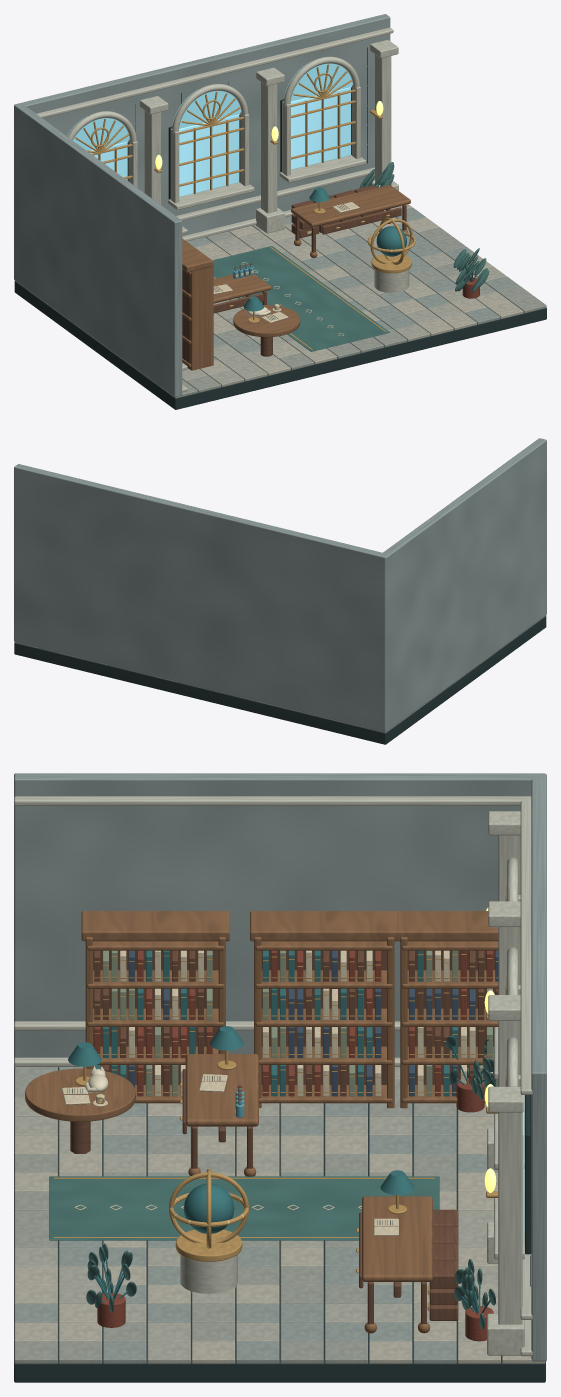
The model's file is hall.glb.
3 renders of one model, top to bottom at view 1: azimuth 30°, elevation 25°; view 2: azimuth 150°, elevation 25°; view 3: azimuth 270°, elevation 25°, orthographic. The views are drawn at different scales.
Parts seen in each view (by area): view 1: Static_5_Salt worn limestone, Static_6_Ivory carved stone, Static_7_Mist beyond windows, Static_16_Carpet, Static_10_Polished wood edge, Static_0_Ink, Static_3_Tile 00_04, Static_8_Aged brass, Static_4_Tile 01_10, Static_1_Tile 00_00, Static_2_Tile 00_01, Static_9_Walnut grain (+2 smaller); view 2: Static_5_Salt worn limestone, Static_0_Ink; view 3: Static_5_Salt worn limestone, Static_10_Polished wood edge, Static_6_Ivory carved stone, Static_4_Tile 01_10, Static_2_Tile 00_01, Static_16_Carpet, Static_1_Tile 00_00, Static_9_Walnut grain, Static_3_Tile 00_04, Static_0_Ink, Static_11_Enamel teal, Static_8_Aged brass (+4 smaller).
Part boxes in pixels (x1,y1,x2,y2): Static_5_Salt worn limestone: [14, 14, 390, 397]; Static_6_Ivory carved stone: [36, 27, 409, 392]; Static_7_Mist beyond windows: [67, 62, 352, 196]; Static_16_Carpet: [213, 162, 489, 351]; Static_10_Polished wood edge: [182, 185, 410, 370]; Static_0_Ink: [14, 47, 546, 409]; Static_3_Tile 00_04: [28, 210, 505, 386]; Static_8_Aged brass: [75, 64, 415, 349]; Static_4_Tile 01_10: [195, 204, 523, 375]; Static_1_Tile 00_00: [14, 224, 546, 398]; Static_2_Tile 00_01: [122, 207, 519, 388]; Static_9_Walnut grain: [182, 185, 406, 369]; Static_5_Salt worn limestone: [14, 438, 546, 731]; Static_0_Ink: [14, 616, 546, 744]; Static_5_Salt worn limestone: [14, 773, 546, 1361]; Static_10_Polished wood edge: [25, 911, 498, 1333]; Static_6_Ivory carved stone: [14, 796, 532, 1356]; Static_4_Tile 01_10: [14, 1103, 545, 1363]; Static_2_Tile 00_01: [14, 1067, 498, 1363]; Static_16_Carpet: [49, 1035, 495, 1329]; Static_1_Tile 00_00: [14, 1066, 456, 1363]; Static_9_Walnut grain: [64, 950, 498, 1334]; Static_3_Tile 00_04: [14, 1067, 498, 1363]; Static_0_Ink: [14, 1067, 545, 1382]; Static_11_Enamel teal: [68, 950, 490, 1313]; Static_8_Aged brass: [54, 887, 506, 1310].
Size of the model in its own units: 16.02 by 7.73 by 12.03.
20 materials, 13 textured.
